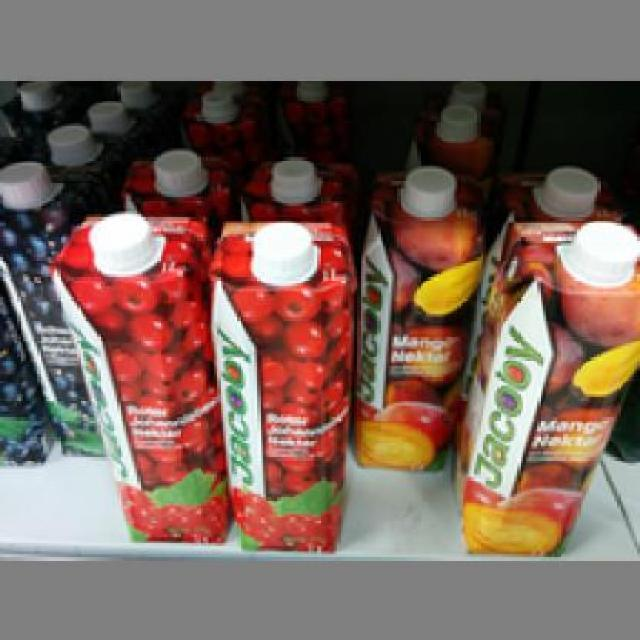Juice: (448, 214, 638, 557), (46, 209, 223, 540), (205, 213, 348, 550), (354, 160, 483, 466)
